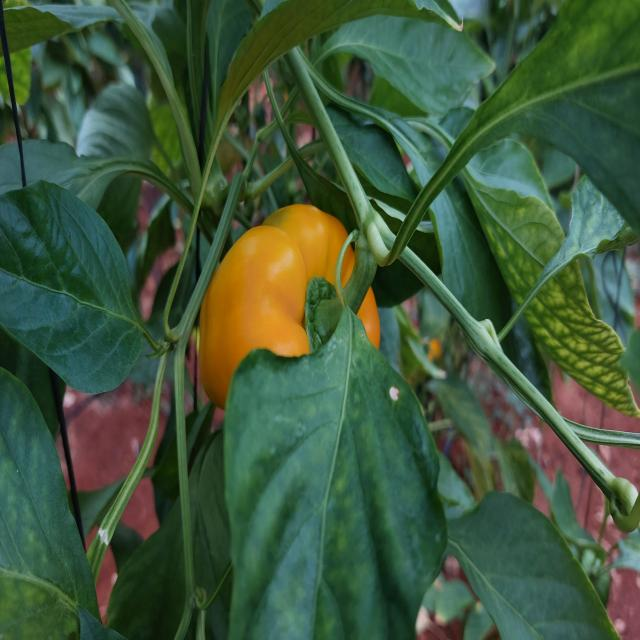Yellow-Ready-to-Harvest: (184, 200, 383, 418)
